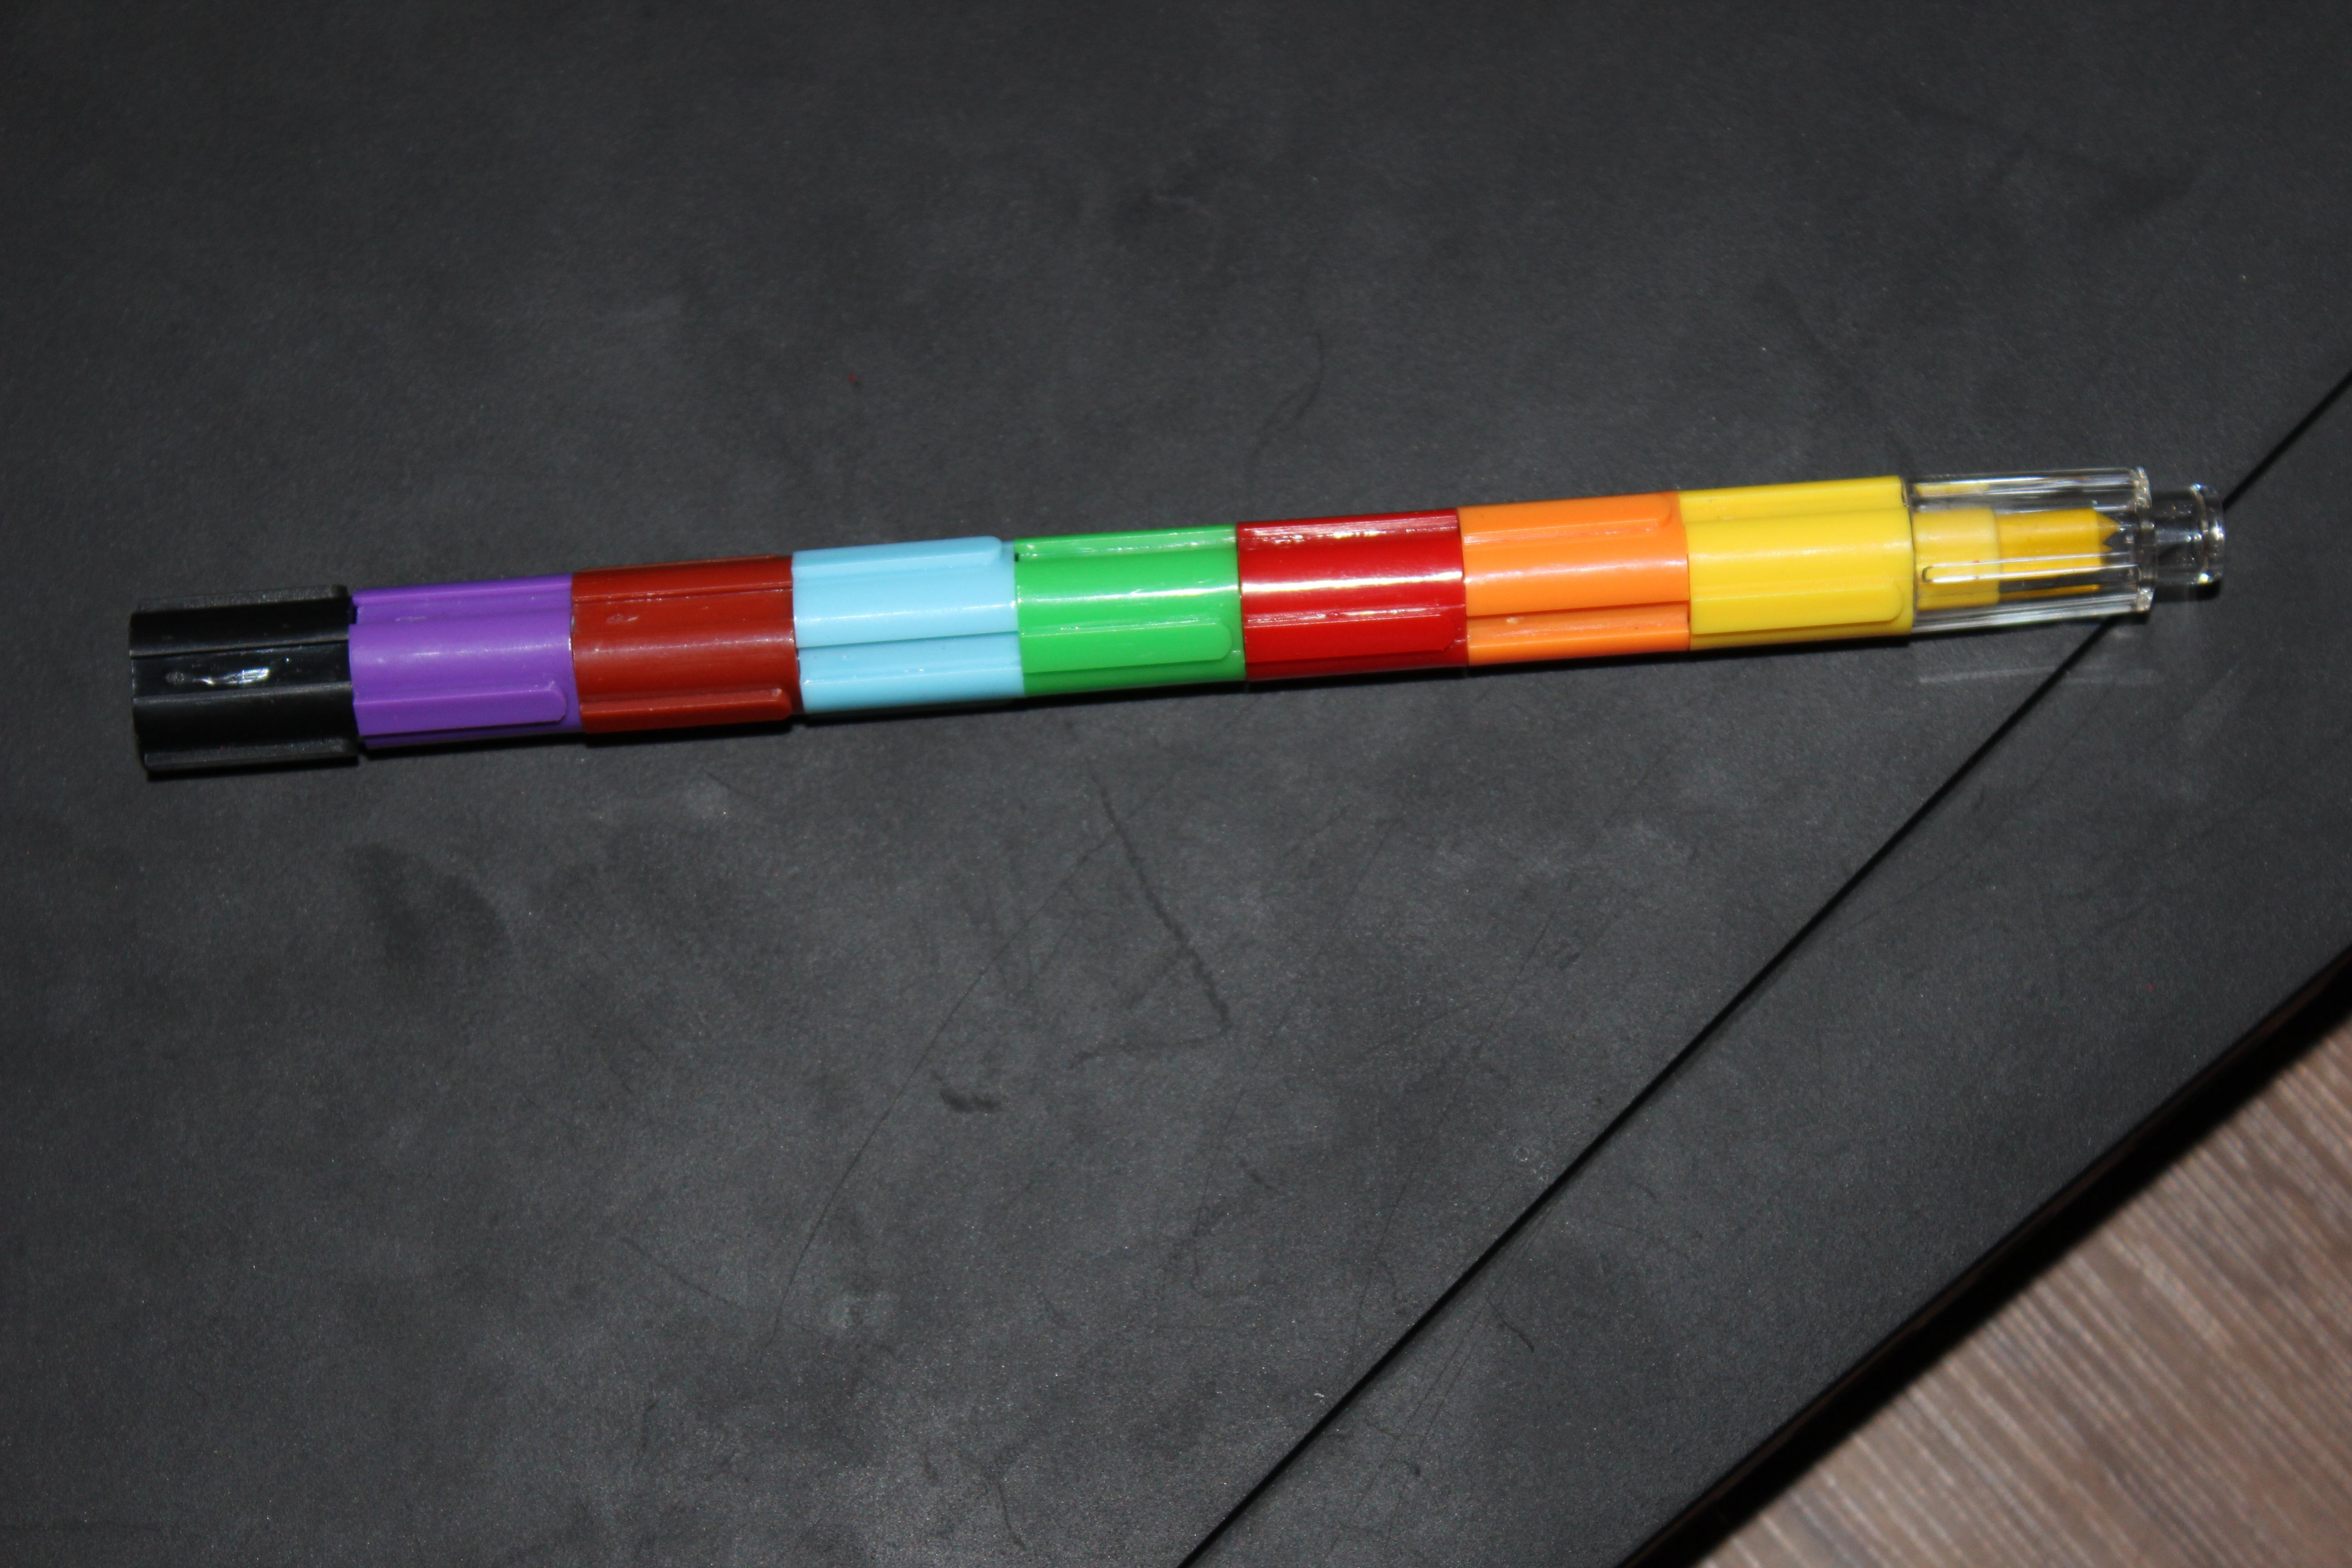rainbowPens: (96, 438, 2252, 831)
